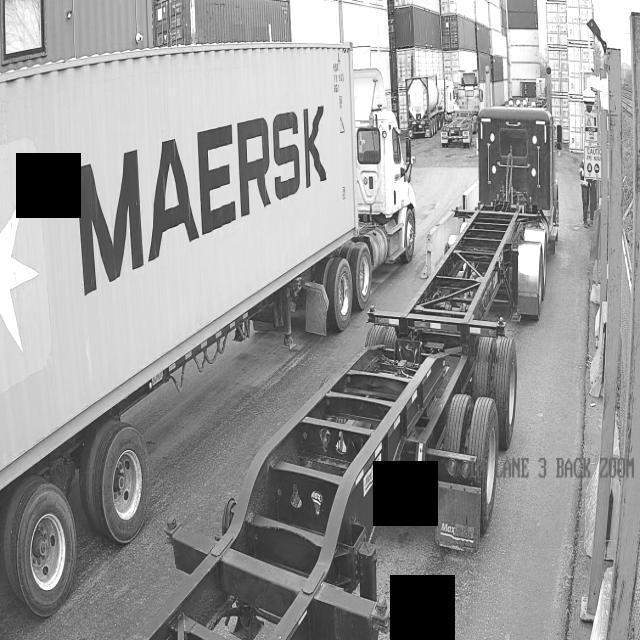container_company_logo: (71, 83, 333, 312)
truck_with_container: (0, 45, 416, 407)
truck_without_container: (132, 104, 560, 640)
